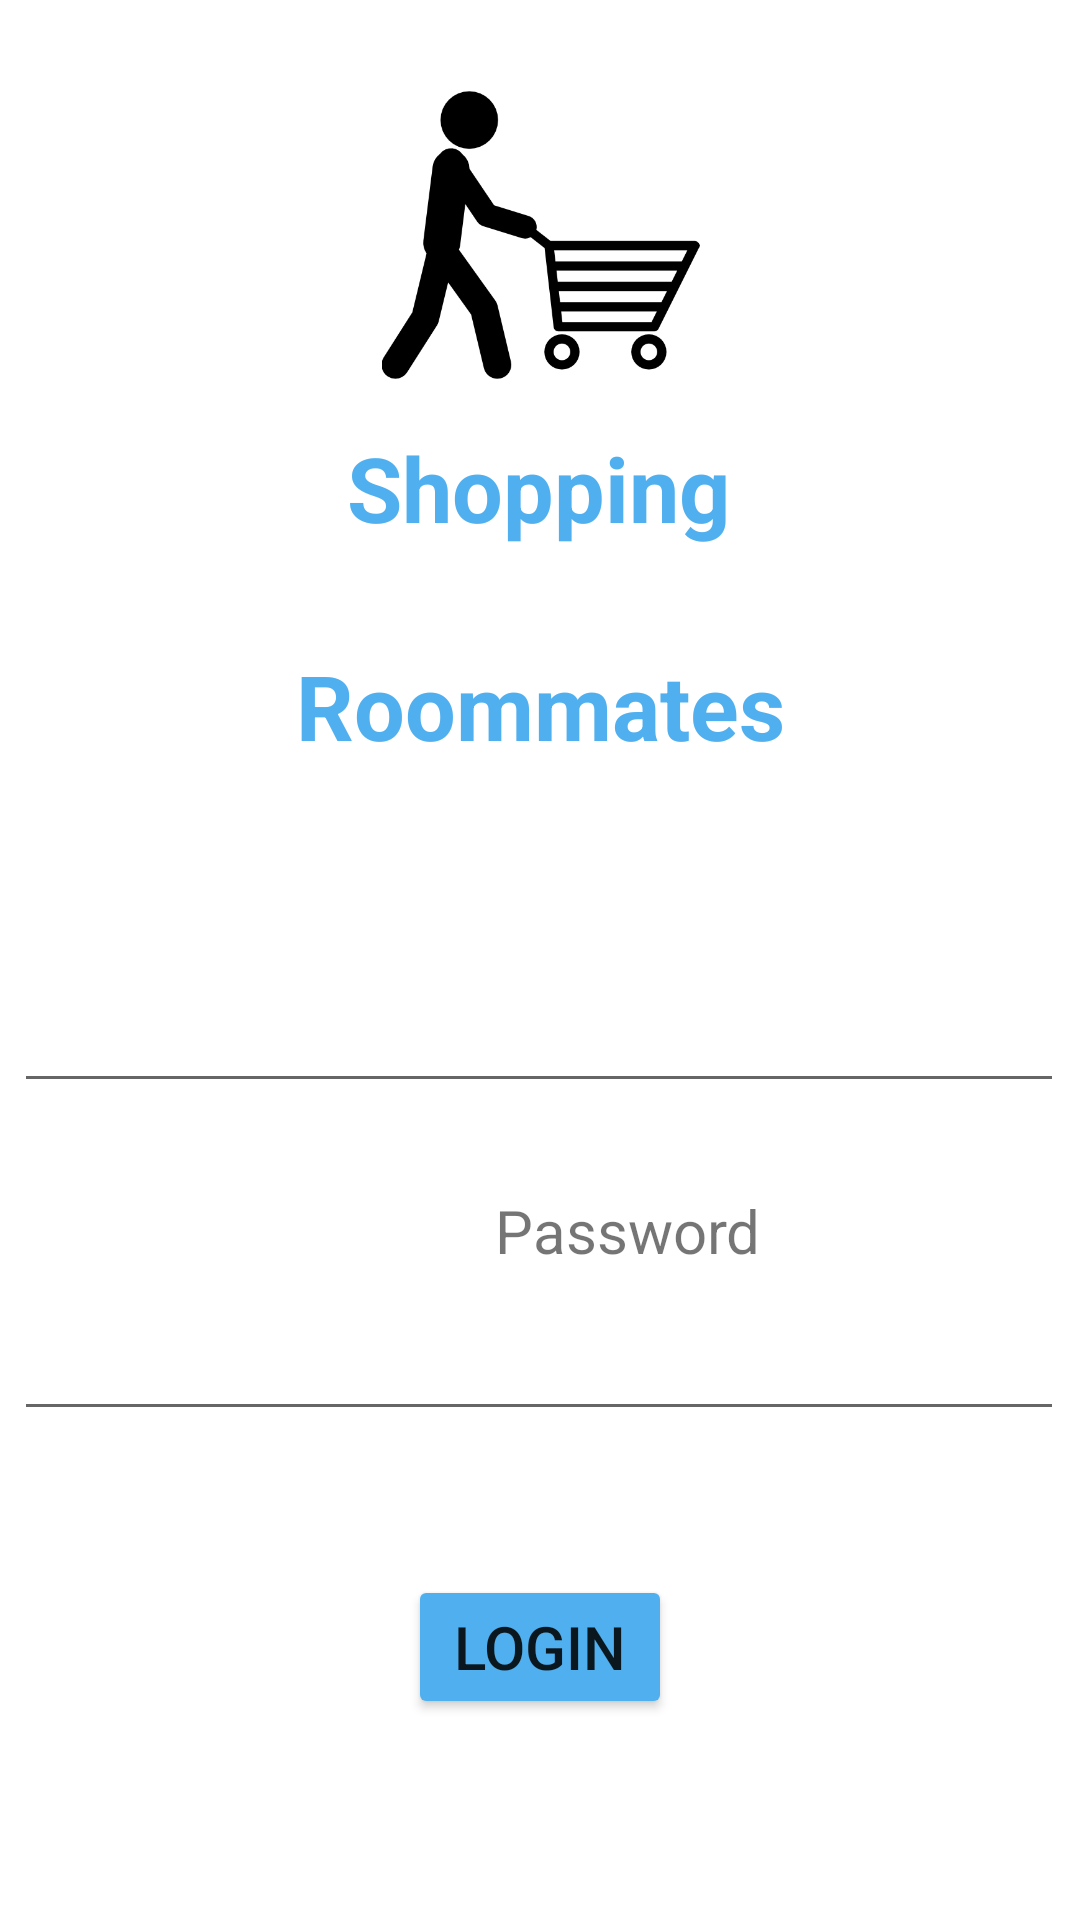

Where icons sit on this 1080px x 1920px app screen, as (x1, y1, x2, y2):
Person with cart: (382, 91, 700, 379)
